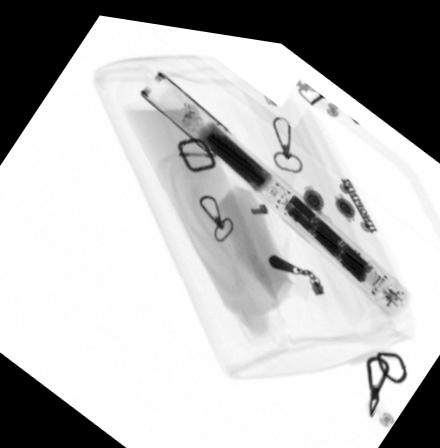Baton: (137, 62, 411, 306)
